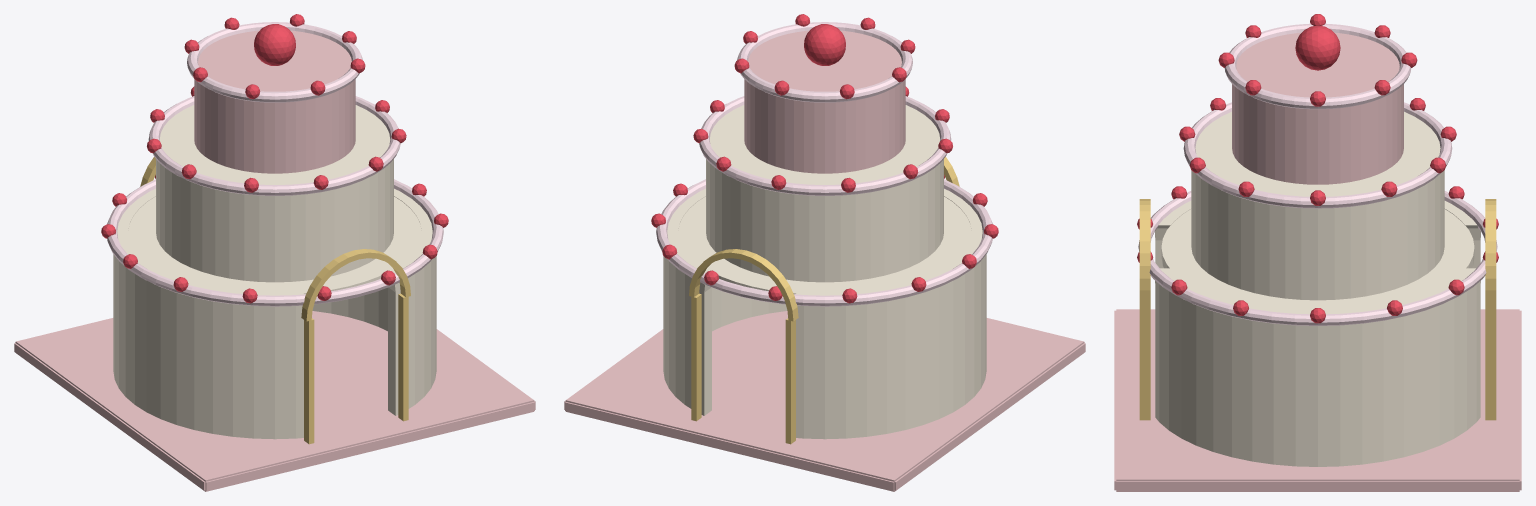
The model's file is HOB_House_TierCake.fbx.
3 renders of one model, left to right at view 1: azimuth 30°, elevation 25°; view 2: azimuth 150°, elevation 25°; view 3: azimuth 270°, elevation 25°, orthographic. The views are drawn at different scales.
Parts seen in each view (by area): view 1: HOB_House_TierCake; view 2: HOB_House_TierCake; view 3: HOB_House_TierCake.
Boxes of the visible parts, x1=… form: HOB_House_TierCake: x1=14, y1=14, x2=535, y2=491; HOB_House_TierCake: x1=564, y1=14, x2=1085, y2=491; HOB_House_TierCake: x1=1114, y1=14, x2=1521, y2=491.
Bounding box in the file's own units: 900 × 925 × 900.
